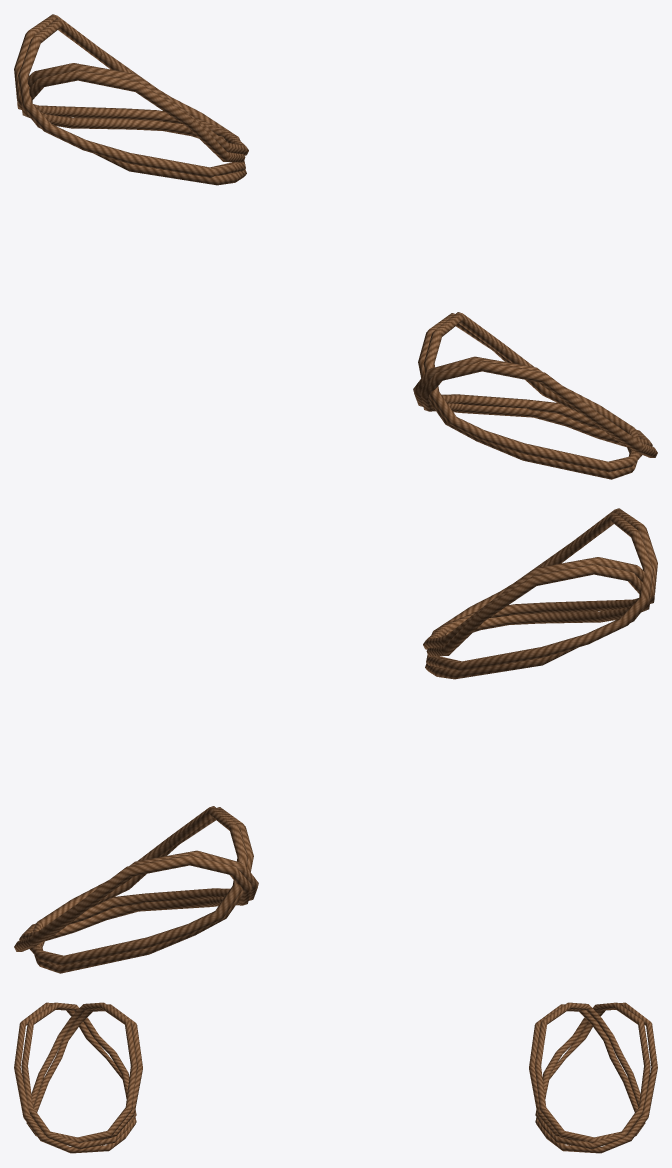
The model's file is Knot_pier_A.fbx.
The picture shows the model from 3 angles, top to bottom: view 1: azimuth 30°, elevation 25°; view 2: azimuth 150°, elevation 25°; view 3: azimuth 270°, elevation 25°; orthographic projection. The views are drawn at different scales.
Visible parts, largest first — view 1: Plane.002; view 2: Plane.002; view 3: Plane.002.
Part boxes in pixels (x1,y1,x2,y2): Plane.002: (14,14,657,479); Plane.002: (14,508,657,973); Plane.002: (14,1002,657,1153).
Size of the model in its own units: 140 by 90.84 by 549.
